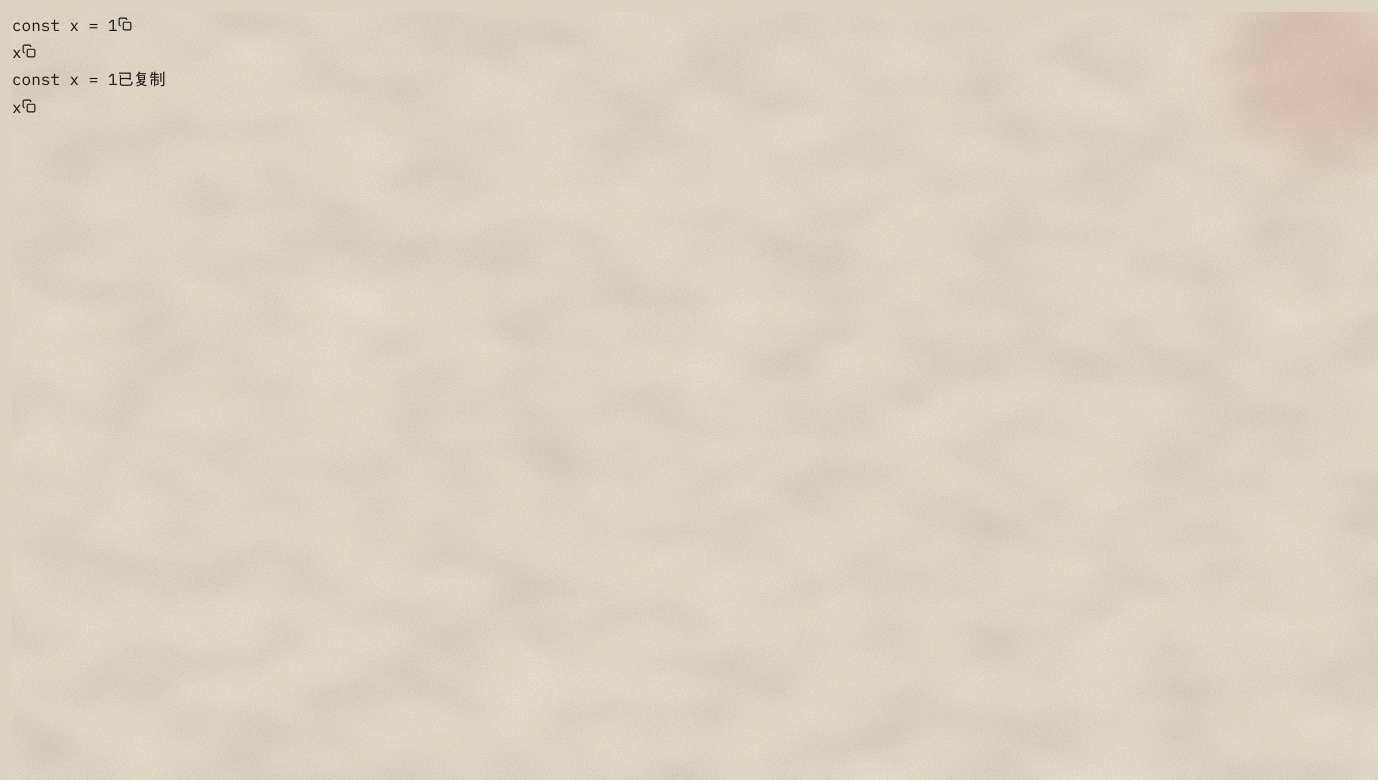
enhanceCodeBlocks › 复制成功后按钮显示"已复制"文字
Click the 4th button with class "code-copy-btn": (29, 106) [22,99,36,113]
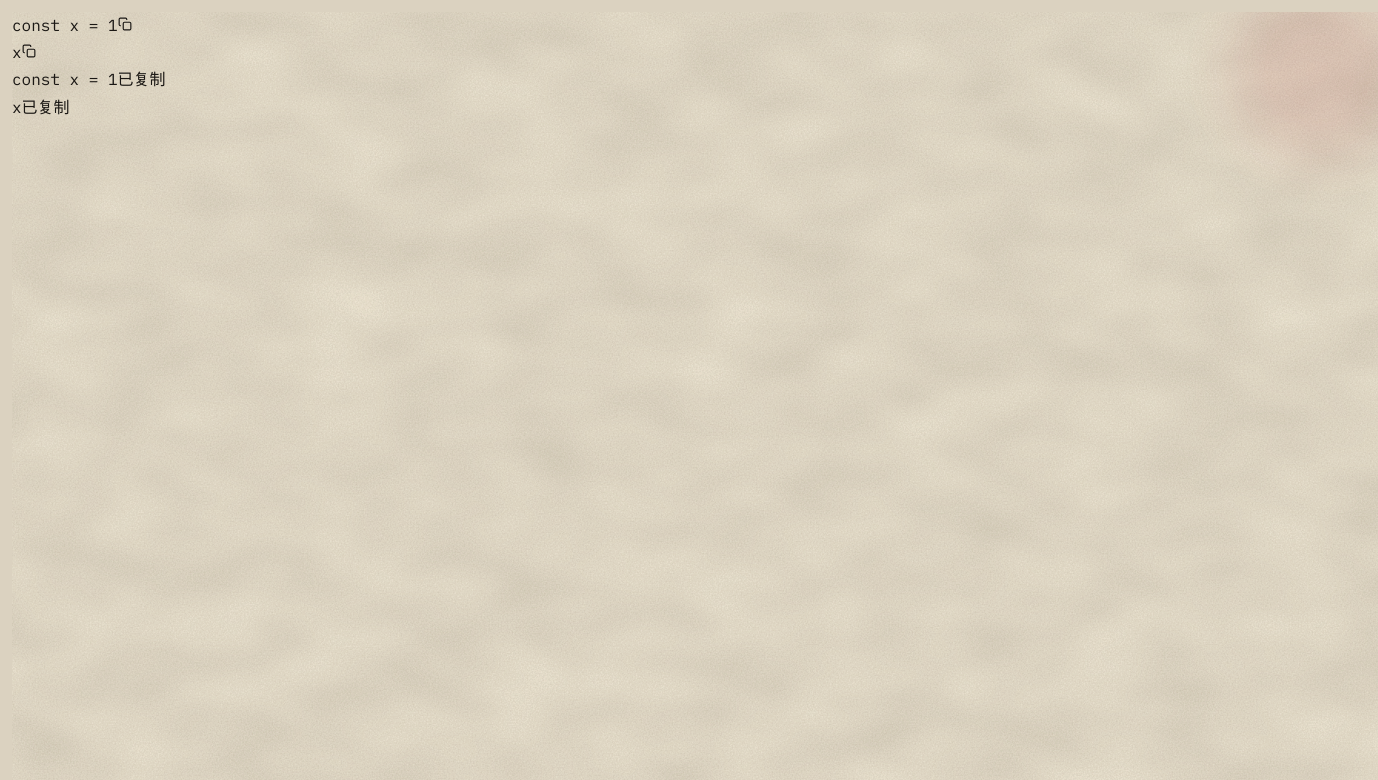
Check: the 2nd button with class "code-copy-btn" reads "已复制", box [22,94,70,121]
